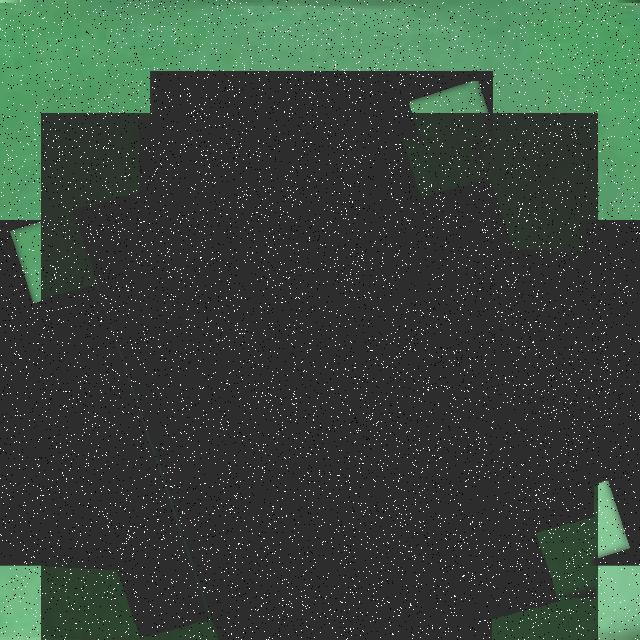dua ribu rupiah: (41, 113, 598, 640)
